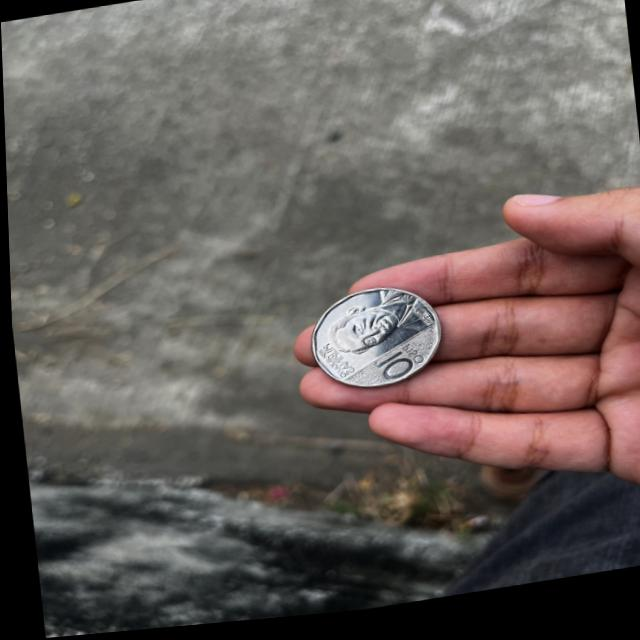10_New_Front: (360, 342, 434, 394)
